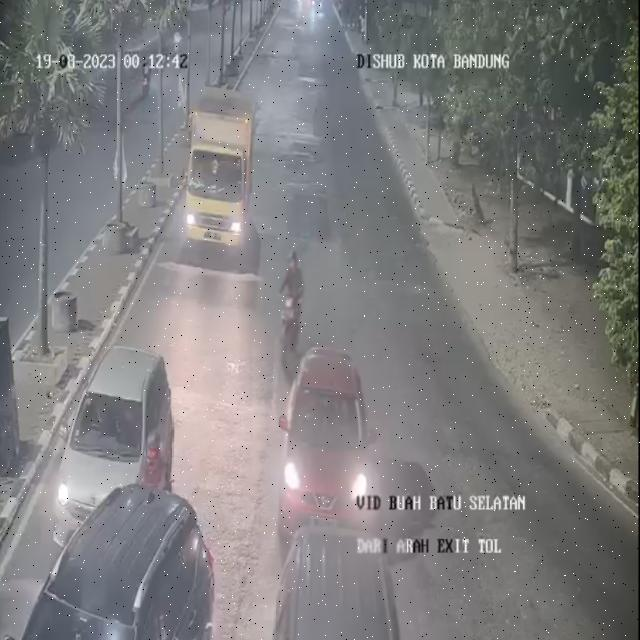cars: (3, 485, 211, 640), (54, 342, 174, 541), (281, 338, 383, 550), (276, 519, 407, 640)
motorcycle: (273, 247, 306, 371)
truck: (184, 85, 257, 259)
